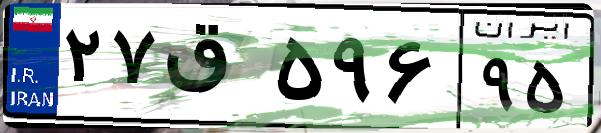2: (57, 26, 110, 100)
5: (270, 28, 330, 110), (525, 38, 570, 115)
6: (385, 28, 445, 110)
7: (110, 28, 158, 98)
9: (330, 28, 385, 110), (475, 38, 525, 113)
ق: (158, 20, 270, 120)
